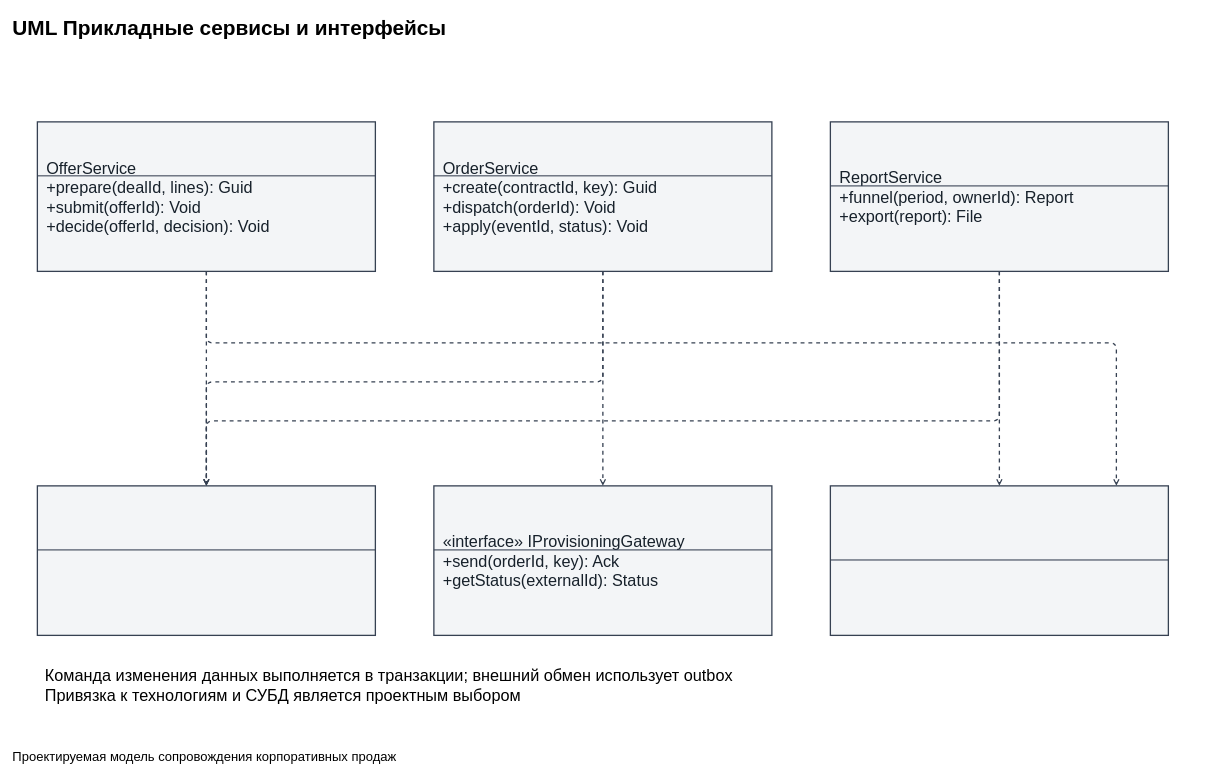
Some shapes in this 1205 by 776 pixel diagram are drawn without their labels. The shapes that lost their labels are listed below. From the top down, each one's box as (x1, y1, x2, y2) in pixels, then its label:
(36, 485, 376, 636): «interface» IUnitOfWork +commit(): Void +rollback(): Void
(829, 485, 1169, 636): «interface» IAccessPolicy +check(userId, action, objectId): Void
